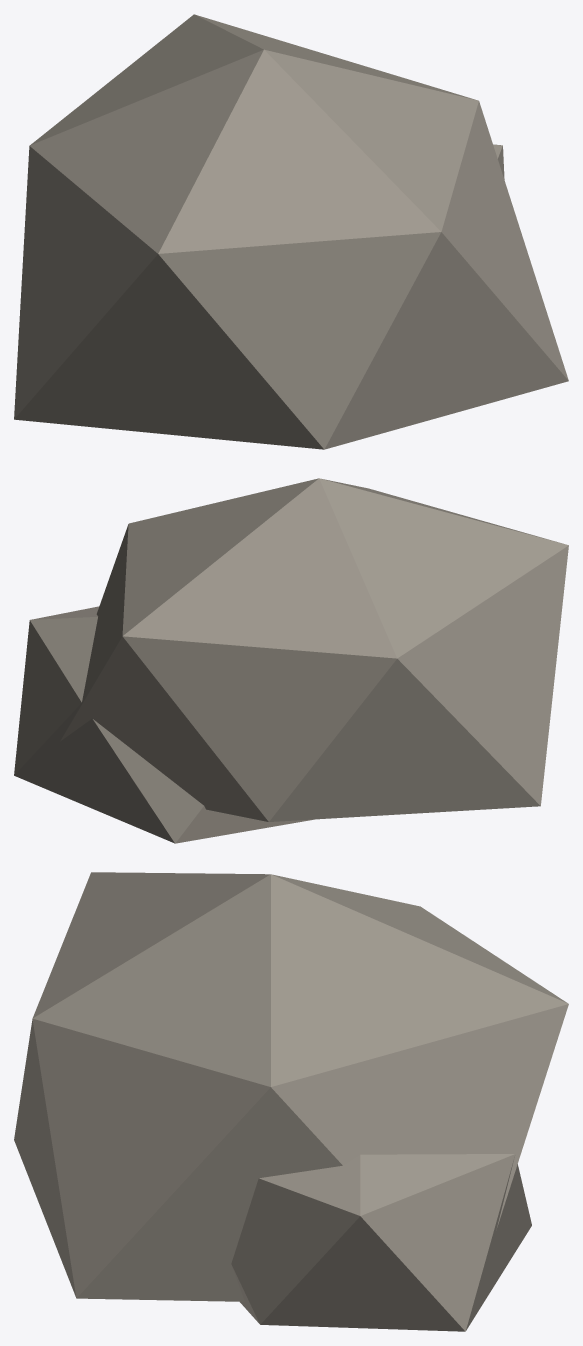
File: HS_LP_Rock_Large_03.fbx
3 renders of one model, top to bottom at view 1: azimuth 30°, elevation 25°; view 2: azimuth 150°, elevation 25°; view 3: azimuth 270°, elevation 25°, orthographic. The views are drawn at different scales.
Visible parts, largest first — view 1: HS_LP_Rock_Large_03; view 2: HS_LP_Rock_Large_03; view 3: HS_LP_Rock_Large_03.
Part boxes in pixels (x1,y1,x2,y2): HS_LP_Rock_Large_03: [14, 14, 568, 449]; HS_LP_Rock_Large_03: [14, 478, 568, 843]; HS_LP_Rock_Large_03: [14, 872, 568, 1331].
Bounding box in the file's own units: 159 × 106 × 140.
